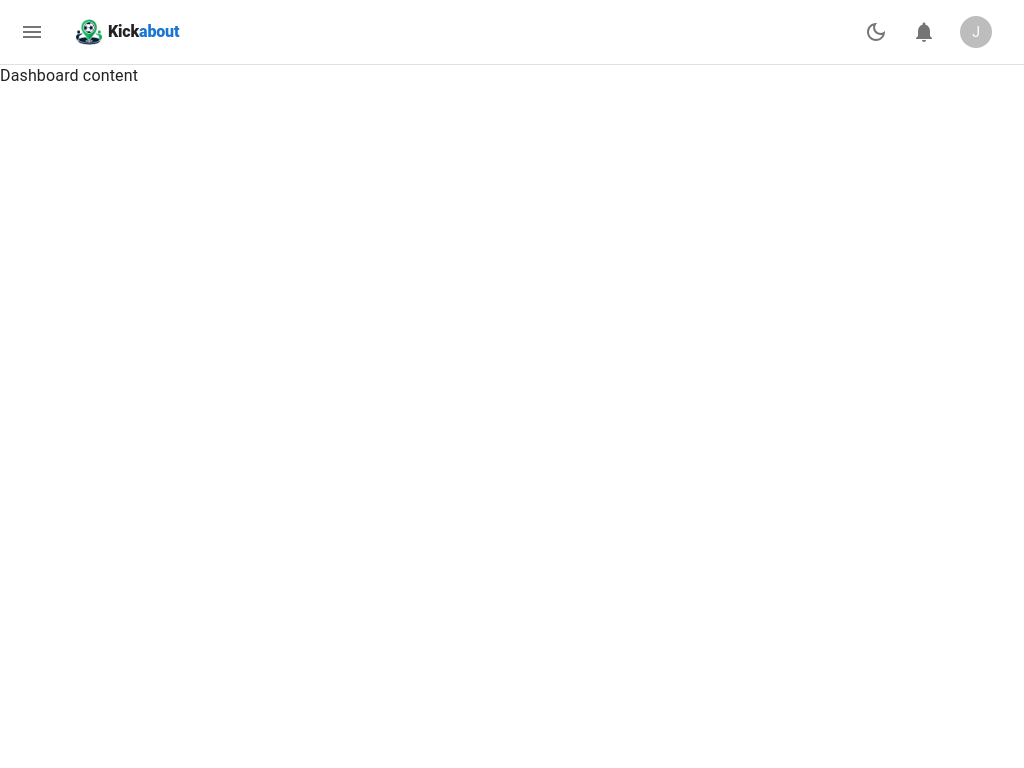
Test: AppShell › opens the same navy menu as the Dashboard on narrow viewports
Click the button named "Open navigation" at (32, 32), box x1=12 y1=12 x2=52 y2=52
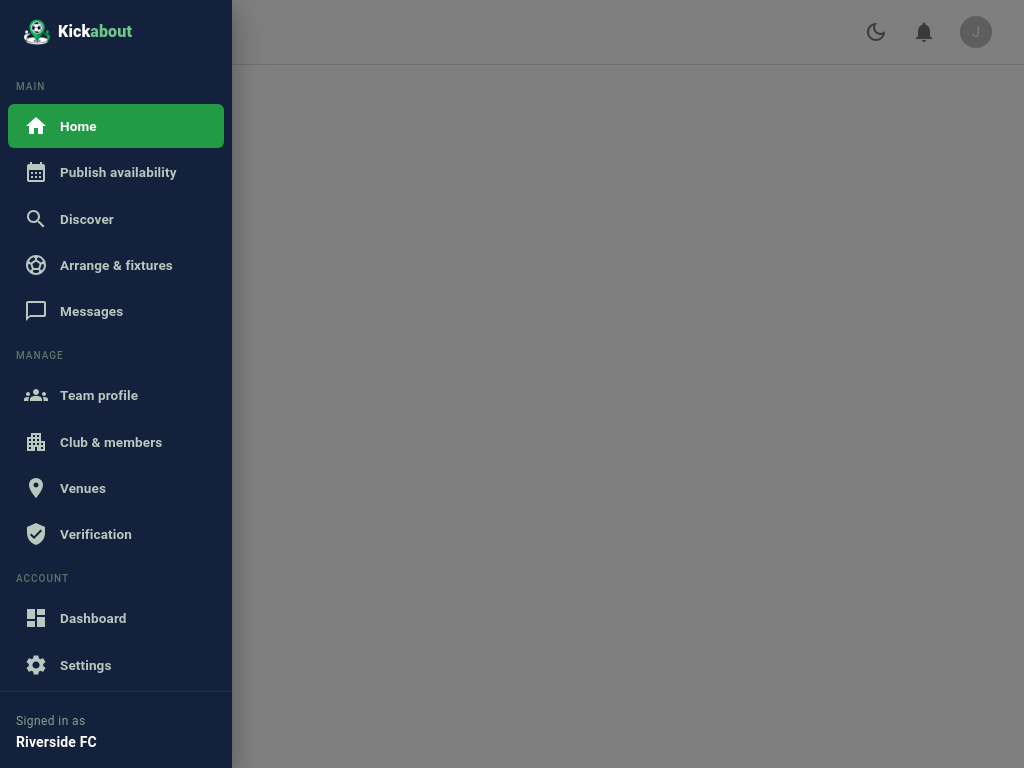
Result: the list item "MAIN" is shown at x1=16 y1=81 x2=45 y2=92
Result: the list item "MANAGE" is shown at x1=16 y1=350 x2=64 y2=361
Result: the list item "ACCOUNT" is shown at x1=16 y1=573 x2=69 y2=584
